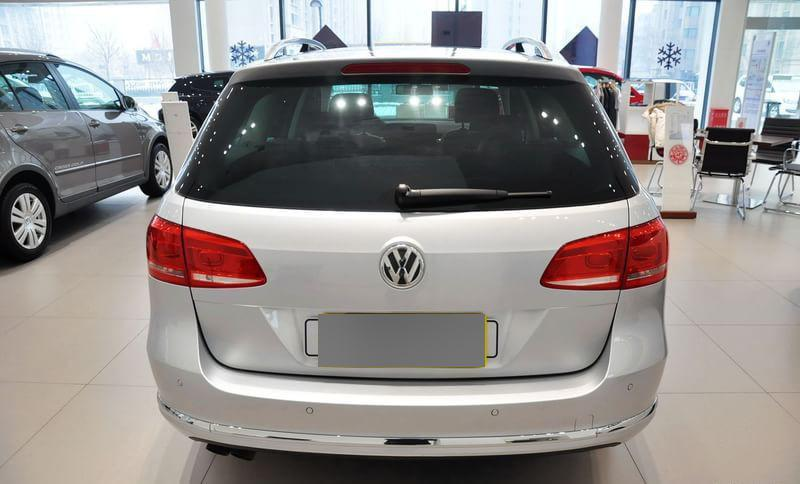Wagon: (143, 35, 670, 464)
